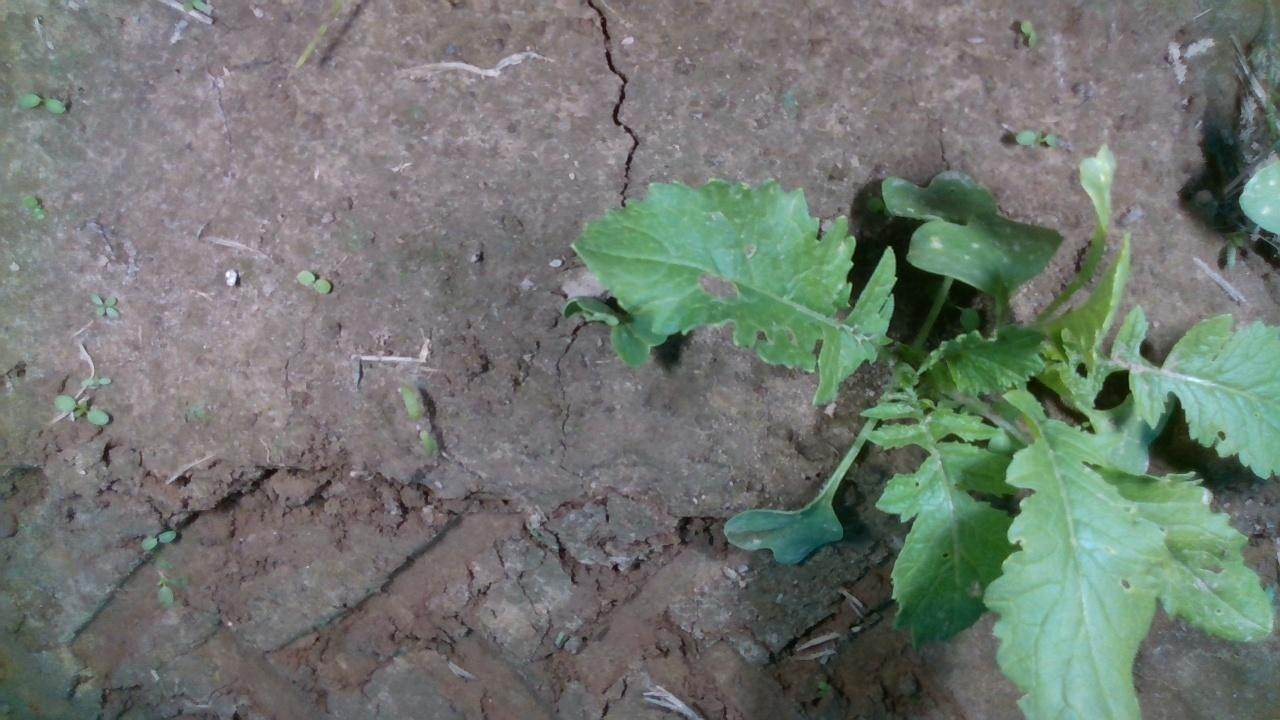weed: (396, 378, 439, 462), (51, 393, 110, 425), (17, 91, 68, 113), (138, 526, 177, 551), (294, 267, 331, 293), (1012, 127, 1060, 147), (87, 292, 120, 319), (1018, 16, 1038, 50), (21, 194, 47, 219), (78, 373, 111, 387)
